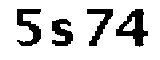4: (115, 4, 151, 53)
5: (12, 4, 46, 50)
7: (84, 6, 114, 51)
s: (48, 16, 76, 49)
